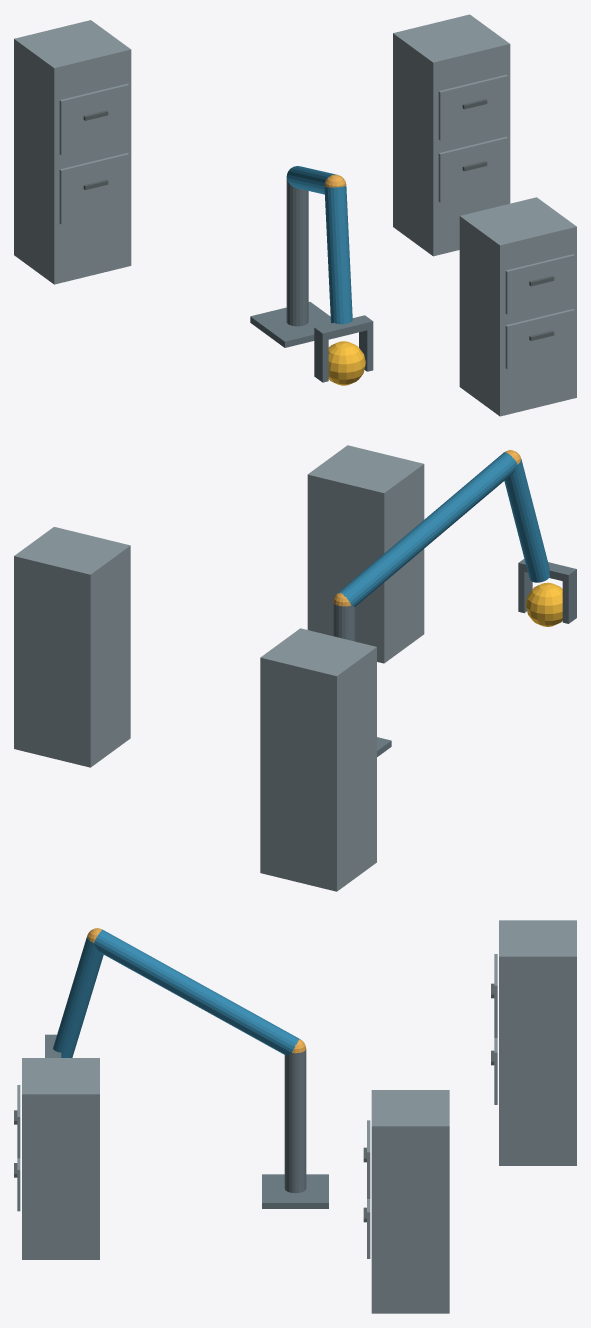
3 views of the same model, one above another, from view 1: azimuth 30°, elevation 25°; view 2: azimuth 150°, elevation 25°; view 3: azimuth 270°, elevation 25° (orthographic). The views are drawn at different scales.
Parts seen in each view (by area): view 1: cabinet_3 body, cabinet_2 body, cabinet_1 body, cabinet_3 drawer front.001, cabinet_3 drawer front, cabinet_2 drawer front.001, cabinet_2 drawer front, fixed post, moving link 2, cabinet_1 drawer front, cabinet_1 drawer front.001, pedestal (+4 smaller); view 2: cabinet_3 body, cabinet_2 body, cabinet_1 body, moving link 1, moving link 2, ball ball_1, fixed post, gripper finger -1; view 3: cabinet_3 body, cabinet_2 body, cabinet_1 body, moving link 1, fixed post, moving link 2, pedestal.
Boxes of the visible parts, left/top/right/bottom form: cabinet_3 body: left=14, top=20, right=131, bottom=284; cabinet_2 body: left=393, top=14, right=510, bottom=256; cabinet_1 body: left=459, top=197, right=576, bottom=416; cabinet_3 drawer front.001: left=59, top=83, right=128, bottom=155; cabinet_3 drawer front: left=59, top=153, right=128, bottom=224; cabinet_2 drawer front.001: left=438, top=74, right=507, bottom=140; cabinet_2 drawer front: left=438, top=136, right=507, bottom=202; fixed post: left=286, top=178, right=308, bottom=326; moving link 2: left=324, top=185, right=352, bottom=324; cabinet_1 drawer front: left=505, top=309, right=574, bottom=369; cabinet_1 drawer front.001: left=505, top=254, right=574, bottom=314; pedestal: left=250, top=302, right=330, bottom=347; cabinet_3 body: left=260, top=628, right=376, bottom=891; cabinet_2 body: left=14, top=527, right=130, bottom=767; cabinet_1 body: left=307, top=445, right=424, bottom=663; moving link 1: left=338, top=452, right=517, bottom=606; moving link 2: left=504, top=458, right=549, bottom=582; ball ball_1: left=525, top=582, right=562, bottom=626; fixed post: left=333, top=602, right=355, bottom=641; gripper finger -1: left=562, top=577, right=576, bottom=623; cabinet_3 body: left=499, top=920, right=576, bottom=1165; cabinet_2 body: left=371, top=1090, right=449, bottom=1313; cabinet_1 body: left=22, top=1058, right=99, bottom=1259; moving link 1: left=94, top=929, right=300, bottom=1054; fixed post: left=284, top=1049, right=306, bottom=1193; moving link 2: left=53, top=936, right=103, bottom=1057; pedestal: left=262, top=1174, right=328, bottom=1208.
Bounding box in the file's own units: 1.62 × 0.9661 × 2.1.
